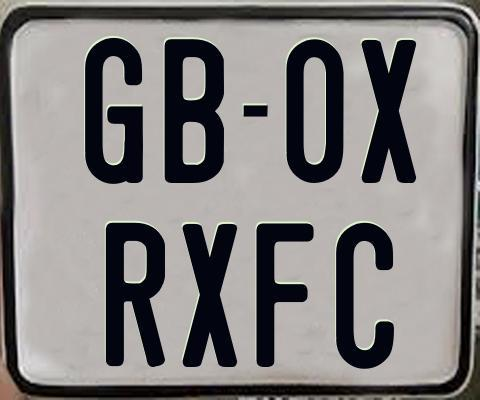0: (283, 36, 341, 185)
B: (164, 37, 228, 184)
C: (334, 220, 393, 370)
F: (256, 221, 320, 368)
G: (85, 38, 144, 185)
R: (103, 223, 163, 373)
X: (358, 39, 414, 186), (179, 221, 234, 369)
